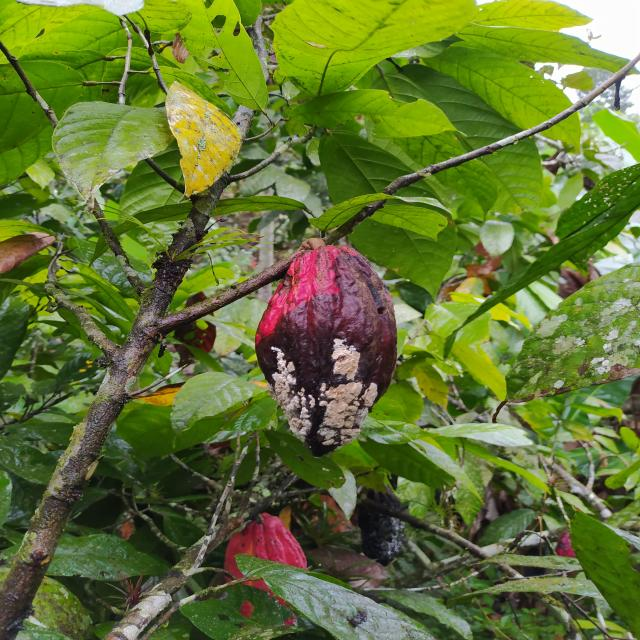Monilia: (253, 239, 400, 459)
